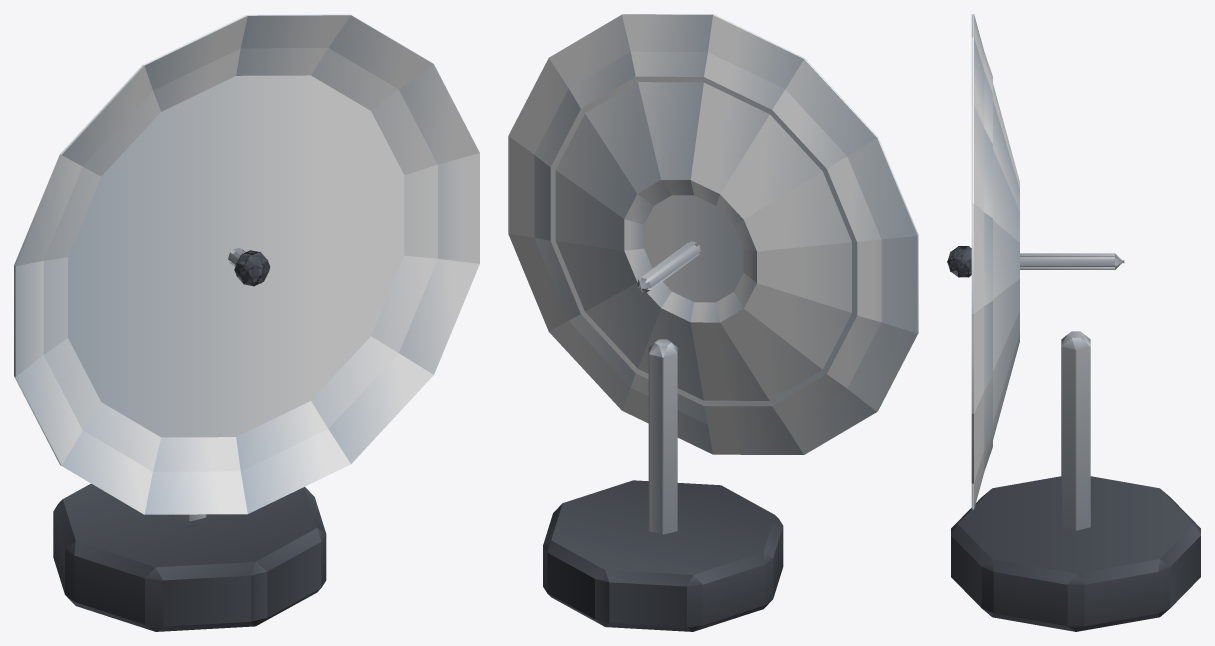
The model's file is dt_satellite_dish.fbx.
3 renders of one model, left to right at view 1: azimuth 30°, elevation 25°; view 2: azimuth 150°, elevation 25°; view 3: azimuth 270°, elevation 25°, orthographic. The views are drawn at different scales.
Visible parts, largest first — view 1: dt_satellite_dish; view 2: dt_satellite_dish; view 3: dt_satellite_dish.
Part boxes in pixels (bbox=[...]): dt_satellite_dish: bbox=[14, 14, 479, 631]; dt_satellite_dish: bbox=[508, 14, 918, 631]; dt_satellite_dish: bbox=[947, 14, 1200, 631].
Size of the model in its own units: 402 by 500 by 211.
